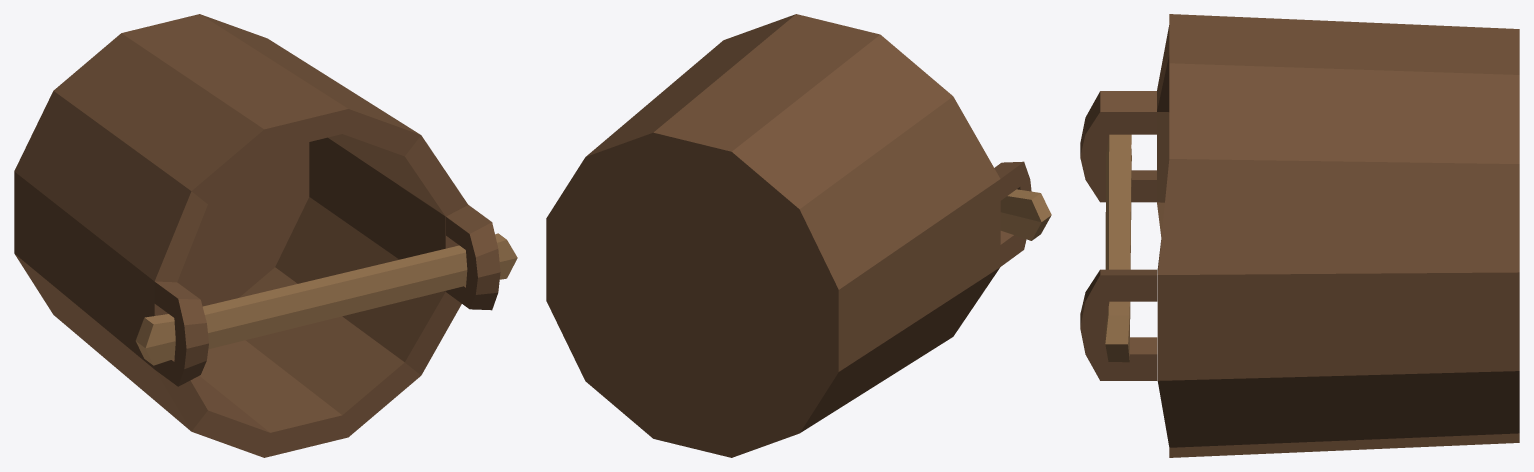
Rendered from Bucket_01.fbx.
The picture shows the model from 3 angles, left to right: view 1: azimuth 30°, elevation 25°; view 2: azimuth 150°, elevation 25°; view 3: azimuth 270°, elevation 25°; orthographic projection. The views are drawn at different scales.
Parts seen in each view (by area): view 1: Bucket_1.0_LOW.003; view 2: Bucket_1.0_LOW.003; view 3: Bucket_1.0_LOW.003.
Part boxes in pixels (bbox=[...]): Bucket_1.0_LOW.003: bbox=[14, 14, 517, 457]; Bucket_1.0_LOW.003: bbox=[546, 14, 1051, 457]; Bucket_1.0_LOW.003: bbox=[1080, 14, 1519, 457].
Size of the model in its own units: 38.91 by 32.84 by 33.15.
